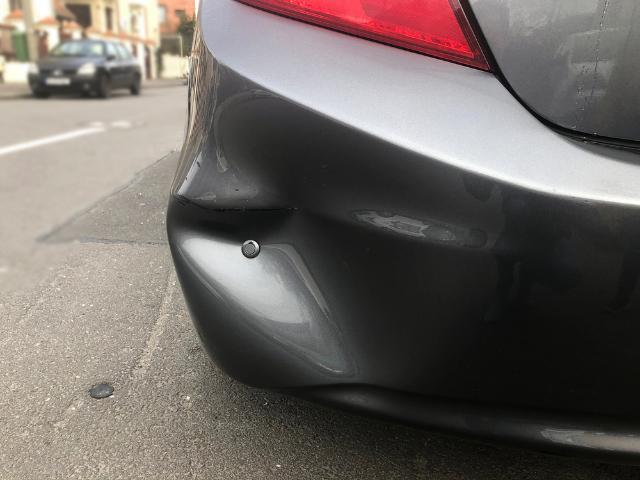dent: (171, 92, 468, 381)
